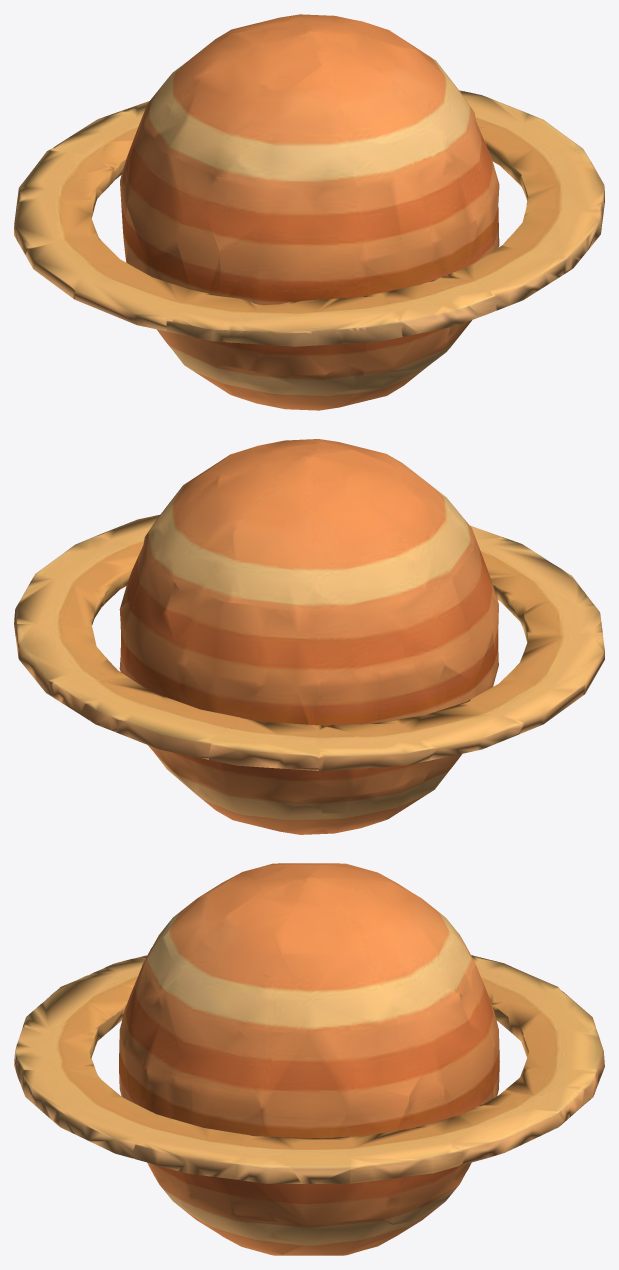
The model's file is planete-anneaux.glb.
3 views of the same model, one above another, from view 1: azimuth 30°, elevation 25°; view 2: azimuth 150°, elevation 25°; view 3: azimuth 270°, elevation 25° (orthographic).
Visible parts, largest first — view 1: mesh_node; view 2: mesh_node; view 3: mesh_node.
Boxes of the visible parts, box(x1,y1,x2,y2) form: mesh_node: box(14, 14, 604, 410); mesh_node: box(14, 439, 604, 834); mesh_node: box(14, 863, 604, 1255).
Bounding box in the file's own units: 1.9 × 1.28 × 1.89.
1 material, 1 textured.
